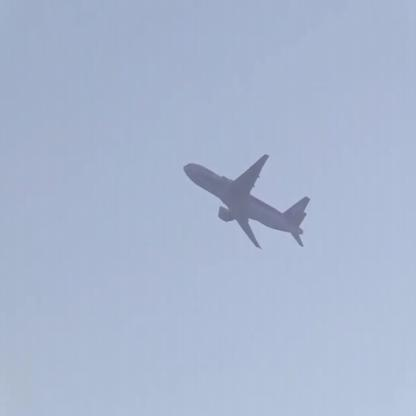CIV_Plane: (182, 154, 311, 250)
